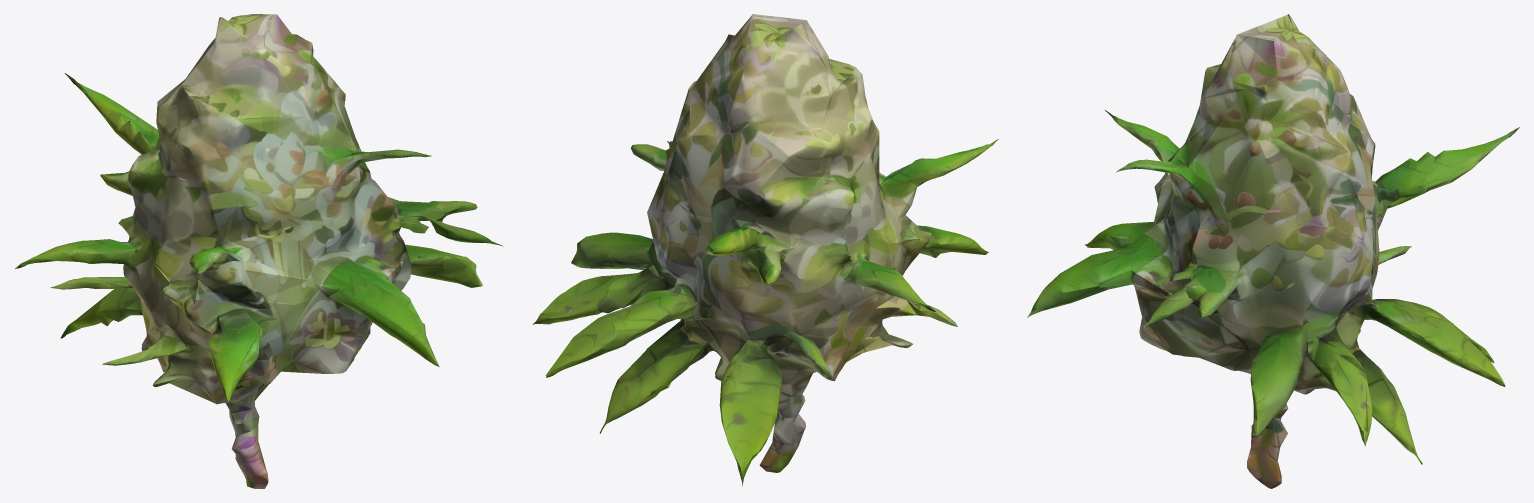
3 views of the same model, side by side, from view 1: azimuth 30°, elevation 25°; view 2: azimuth 150°, elevation 25°; view 3: azimuth 270°, elevation 25° (orthographic). The views are drawn at different scales.
Parts seen in each view (by area): view 1: Material_0; view 2: Material_0; view 3: Material_0.
Part boxes in pixels (box(x1,y1,x2,y2)): Material_0: box(15, 14, 503, 488); Material_0: box(532, 14, 998, 486); Material_0: box(1027, 14, 1519, 488).
Bounding box in the file's own units: 0.0317 × 0.0339 × 0.033.
Materials: 1 (1 with a texture image).
